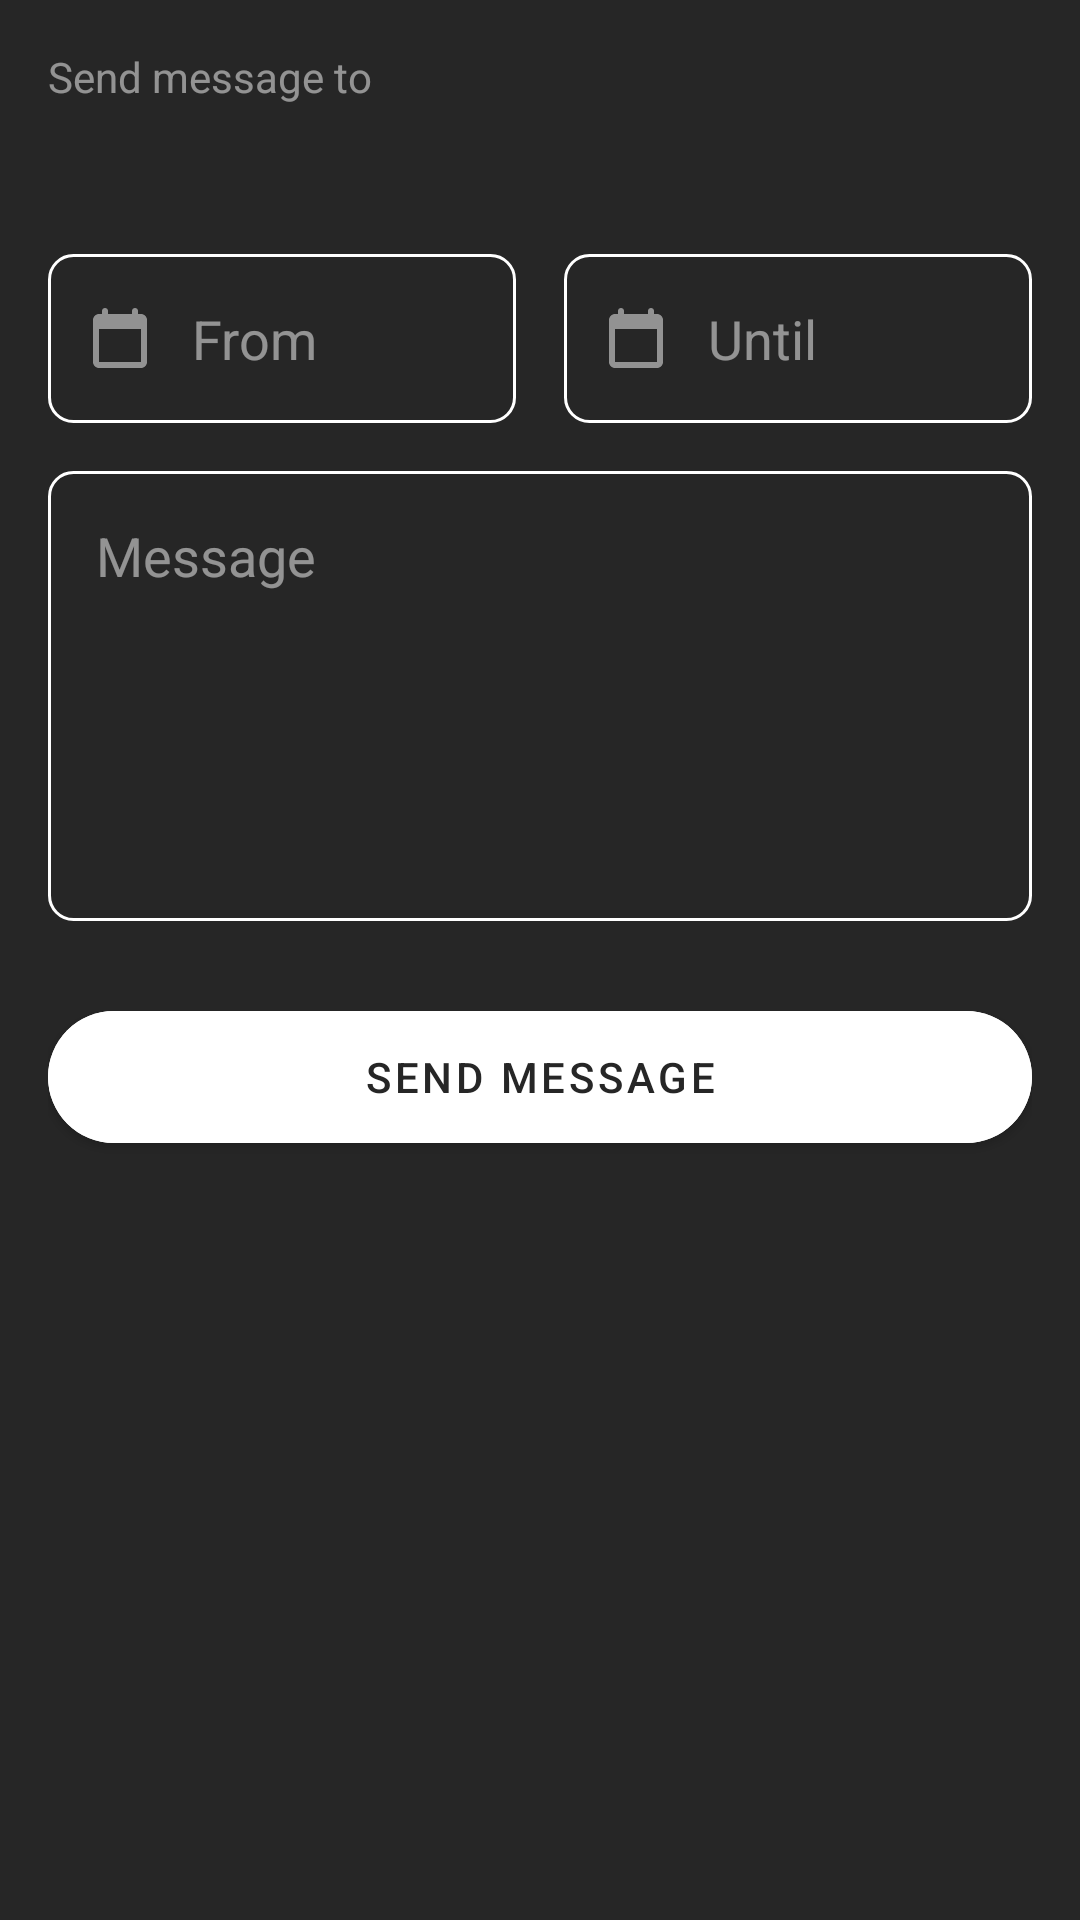

Locate icon controls on the screen. Image size 1080 x 1920, boxes as (x1, y1, x2, y2).
calendar: (93, 308, 147, 368), (609, 308, 663, 368)
